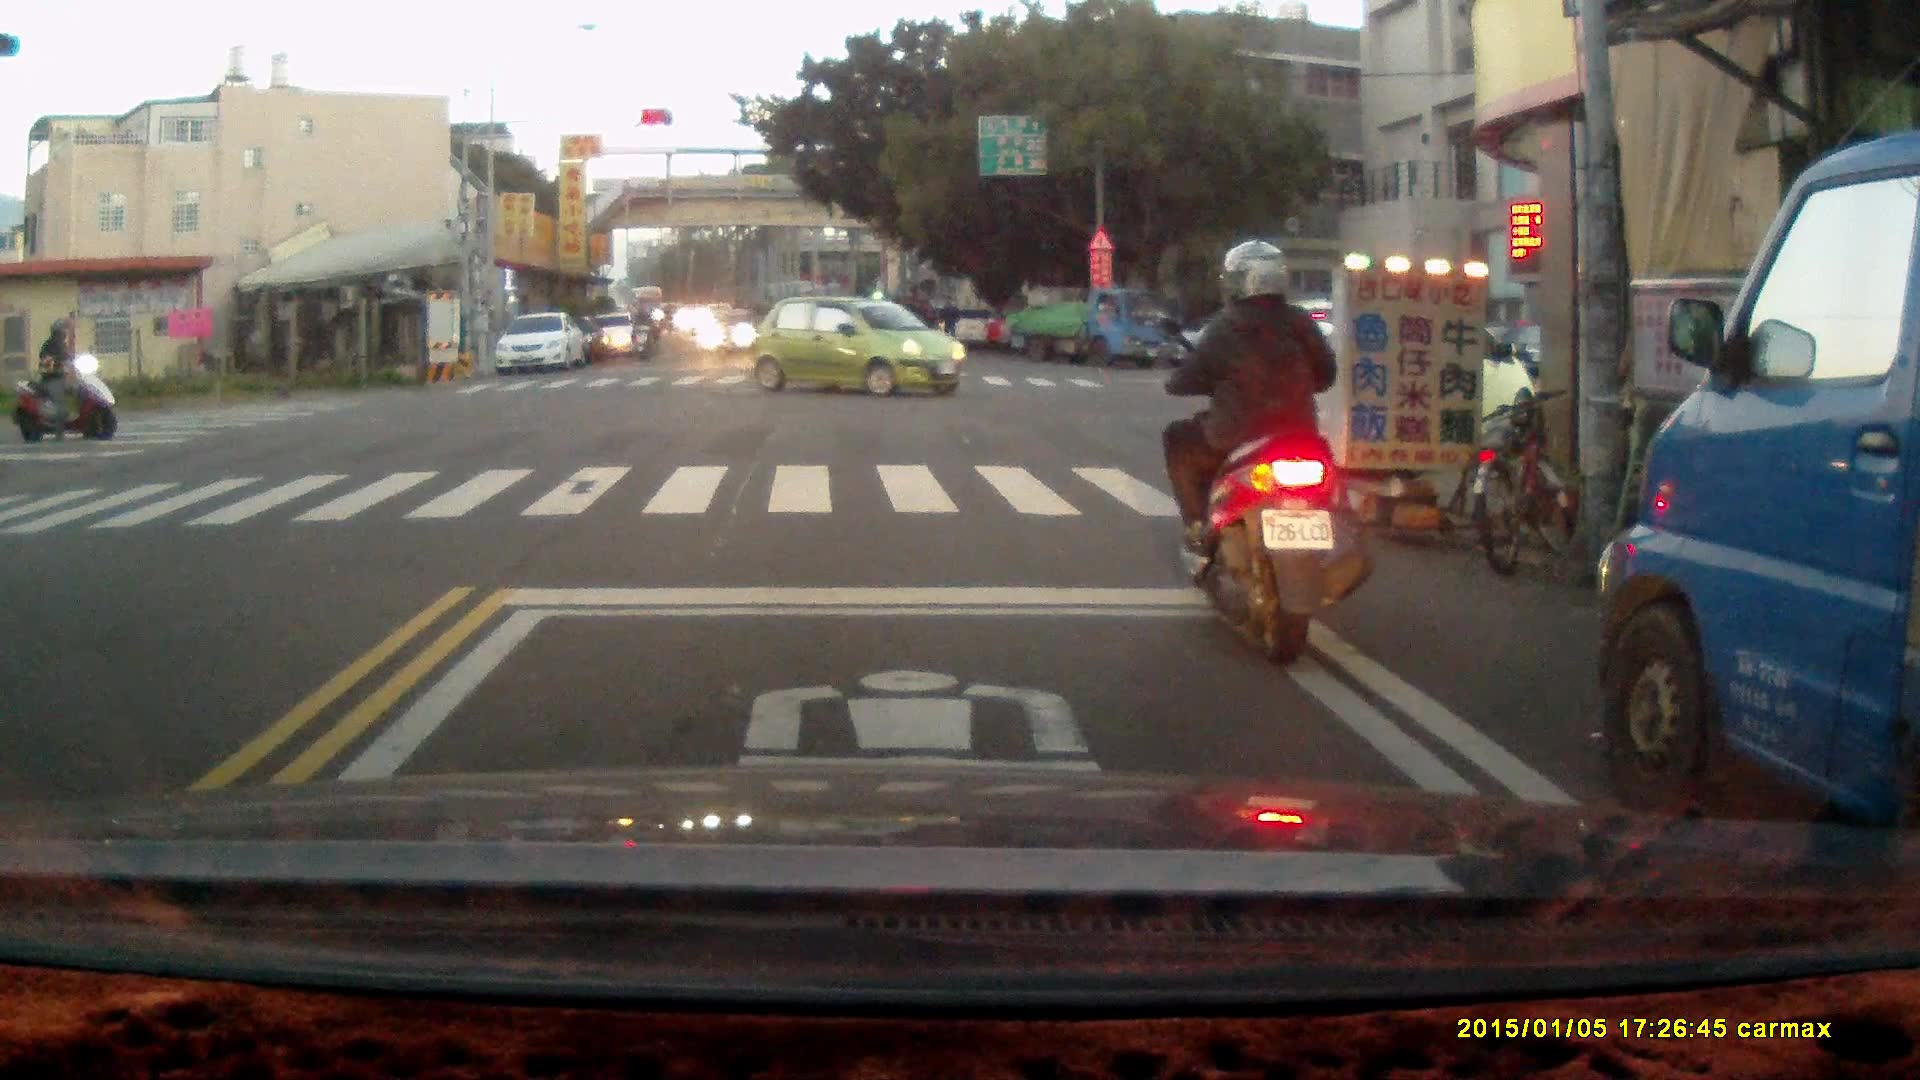rider: (1152, 233, 1386, 671), (10, 318, 119, 440), (629, 306, 656, 363)
vehicle: (1600, 132, 1920, 915), (1225, 295, 1531, 462), (753, 292, 966, 401), (1002, 284, 1178, 367), (494, 313, 587, 377), (592, 311, 642, 360)
